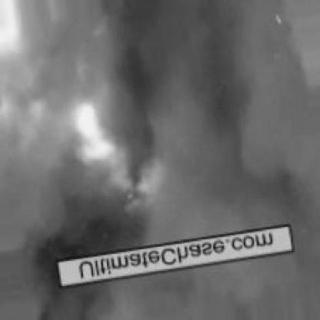Fire: (1, 8, 33, 50)
Smoke: (163, 14, 305, 212)
